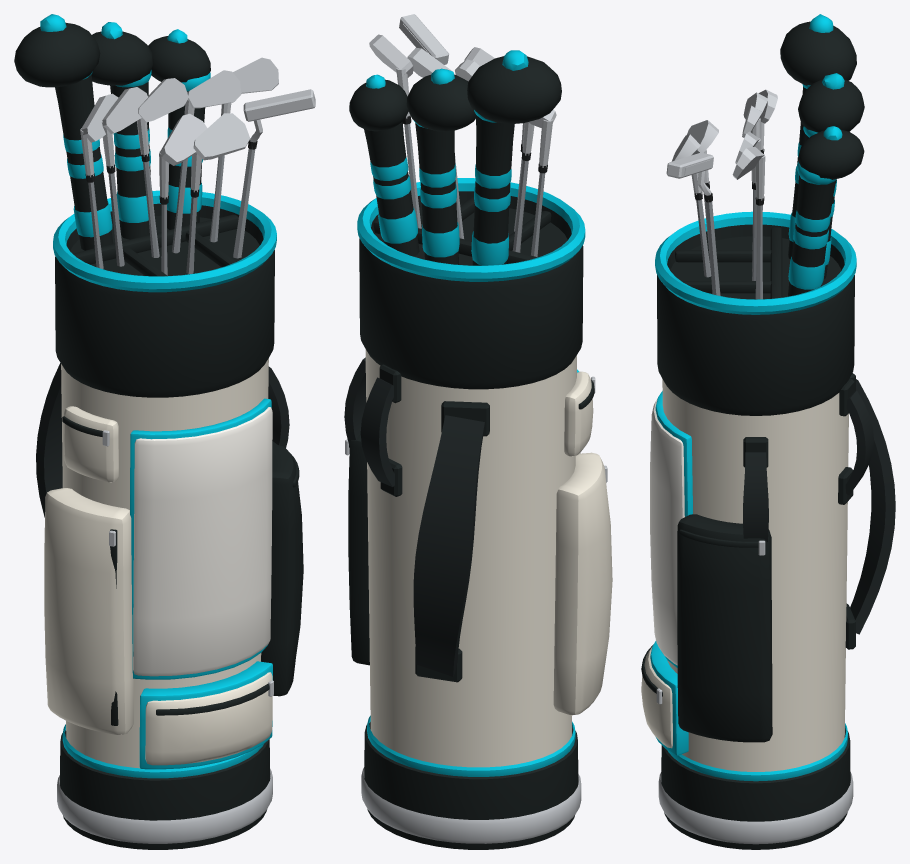
File: GolfBag_Tour.fbx
3 renders of one model, left to right at view 1: azimuth 30°, elevation 25°; view 2: azimuth 150°, elevation 25°; view 3: azimuth 270°, elevation 25°, orthographic. The views are drawn at different scales.
Visible parts, largest first — view 1: GolfBag_Tour; view 2: GolfBag_Tour; view 3: GolfBag_Tour.
Boxes of the visible parts, x1=… form: GolfBag_Tour: x1=14, y1=14, x2=315, y2=849; GolfBag_Tour: x1=344, y1=14, x2=612, y2=849; GolfBag_Tour: x1=641, y1=14, x2=895, y2=849.
Bounding box in the file's own units: 0.4092 × 1.28 × 0.3901.
